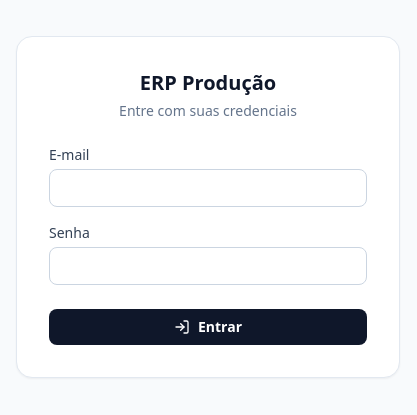
LoginPage › mostra erros de validação ao submeter vazio, sem chamar login
This screenshot has width=417, height=415.
Click the button "Entrar".
click(208, 327)  # box left=49, top=309, right=367, bottom=345
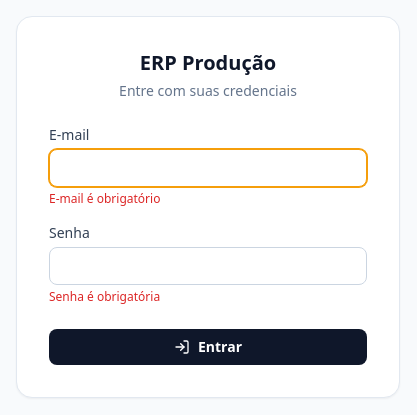
Expected: the text "E-mail é obrigatório" is shown, left=49, top=190, right=160, bottom=207
Expected: the text "Senha é obrigatória" is shown, left=49, top=288, right=160, bottom=305
